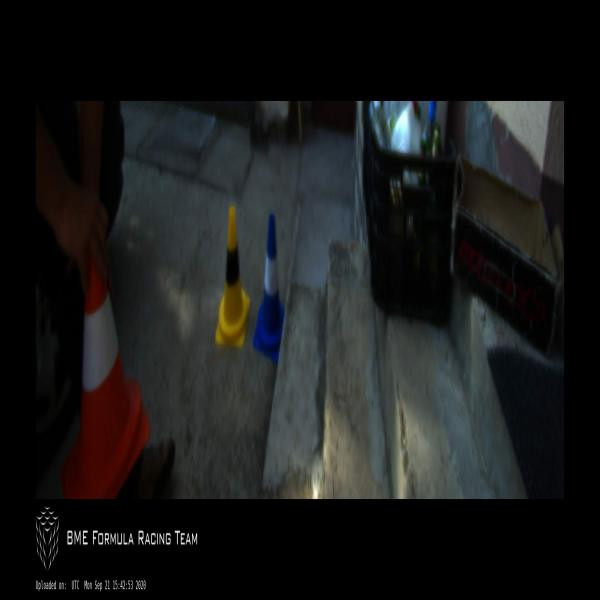blue_cone: (254, 212, 284, 363)
orange_cone: (61, 242, 150, 499)
yellow_cone: (215, 206, 250, 349)
